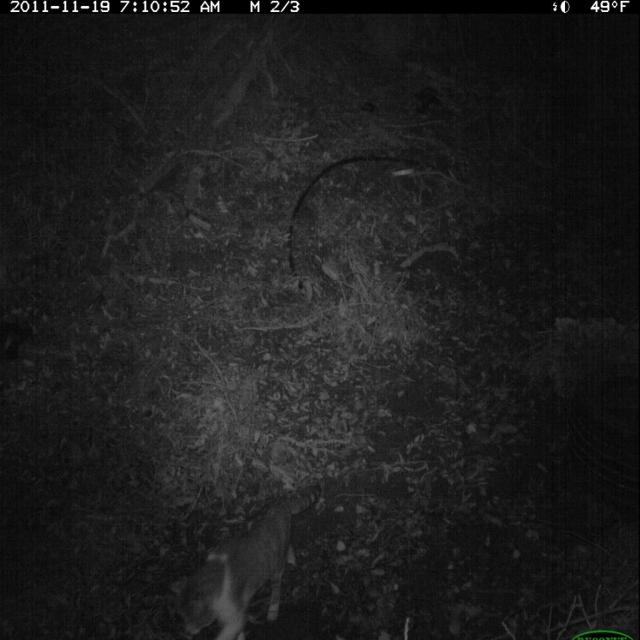cat: (166, 479, 325, 640)
